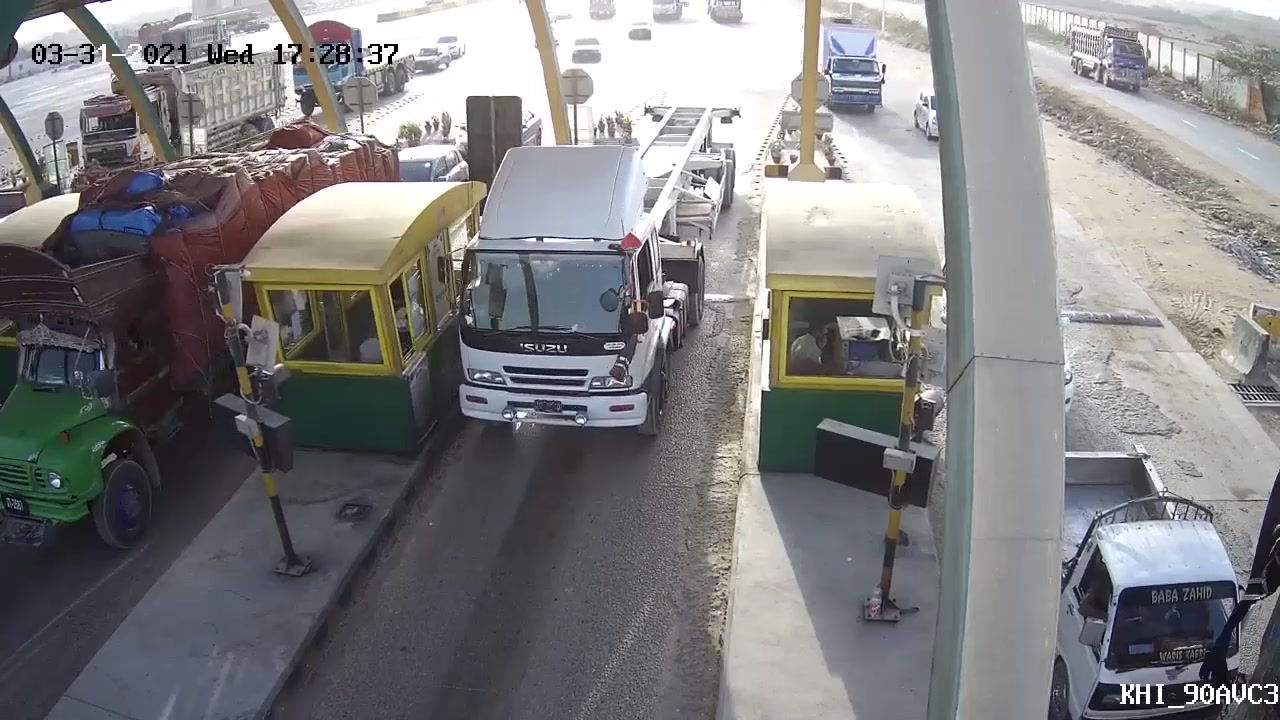F6: (447, 100, 745, 438)
